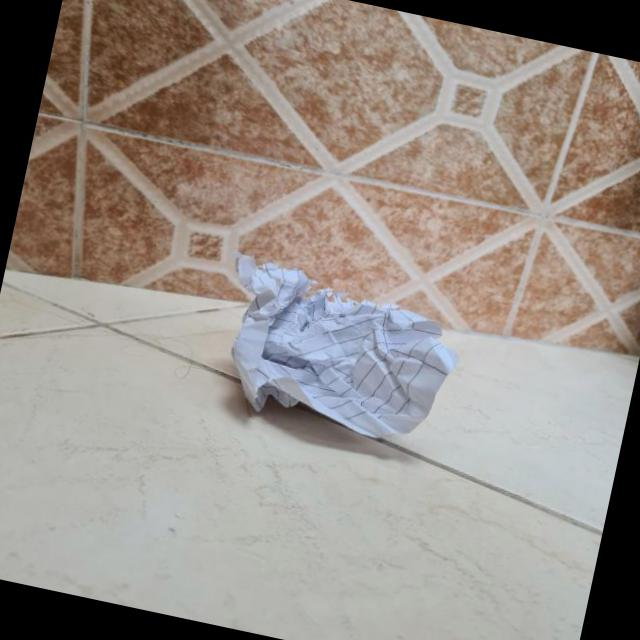cardboard paper: (230, 252, 455, 434)
